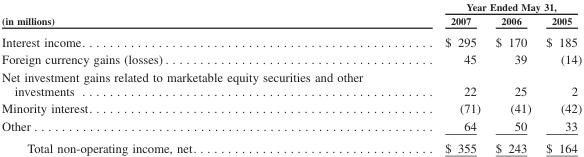table: (1, 0, 581, 154)
table column: (1, 0, 403, 154), (403, 0, 487, 154), (487, 0, 537, 154), (537, 0, 581, 154)
table column header: (1, 0, 581, 30)
table row: (1, 67, 581, 99), (1, 30, 581, 50), (1, 116, 581, 136), (1, 136, 581, 154), (1, 13, 581, 30), (1, 50, 581, 67), (1, 99, 581, 116), (1, 0, 581, 13)
table spanning cell: (1, 0, 403, 30), (403, 0, 581, 13)
